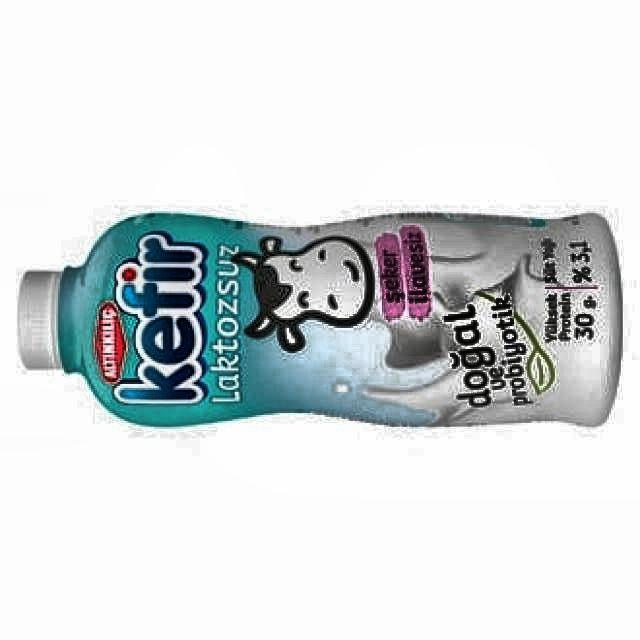plastic: (19, 214, 621, 425)
